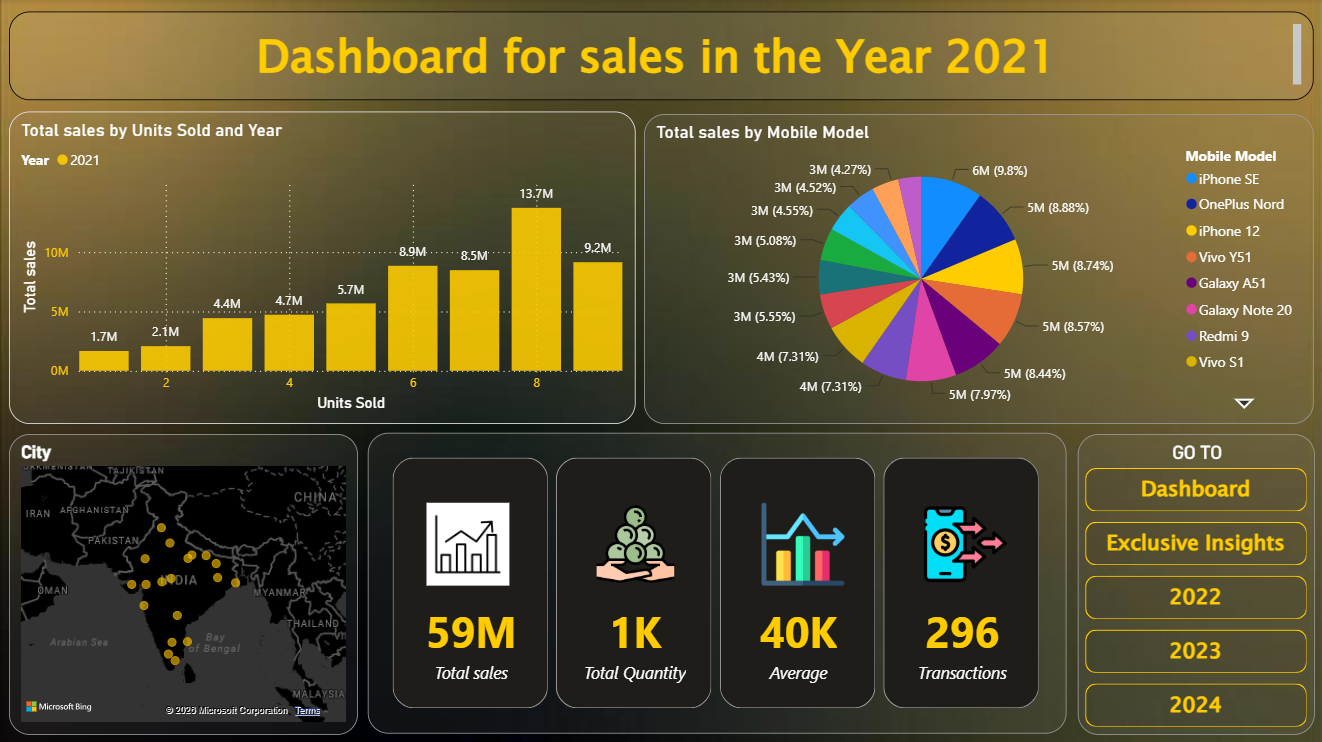

The page's visual inventory and layout, read from the dashboard file:
{"tool":"powerbi","page":{"name":"2021","canvas":[1280,720],"ordinal":2},"visuals":[{"type":"textbox","box":[9.7,12.1,1259.5,85.7],"z":0},{"type":"columnChart","fields":{"Y":["Sales_data.Total sales"],"Category":["Sales_data.Units Sold"],"Series":["Sales_data.Date.Variation.Date Hierarchy.Year"]},"box":[9.7,108.6,604.4,301.6],"z":1000},{"type":"pieChart","fields":{"Category":["Sales_data.Mobile Model"],"Y":["Sales_data.Total sales"]},"box":[622.5,111,646.7,299.2],"z":2000},{"type":"map","fields":{"Category":["Sales_data.City"]},"box":[10,420,337.1,290],"z":3000},{"type":"cardVisual","fields":{"Data":["Sales_data.Total sales","Sales_data.Total Quantity","Sales_data.Average","Sales_data.Transactions"]},"box":[355.9,418.6,674.4,290.8],"z":4000},{"type":"pageNavigator","title":"GO TO","box":[1041.4,420,228.6,290],"z":5000},{"type":"image","box":[574.3,485.7,80,80],"z":6000},{"type":"image","box":[735.7,485.7,80,80],"z":7000},{"type":"image","box":[892.9,485.7,80,80],"z":8000},{"type":"image","box":[412.9,485.7,80,80],"z":9000},{"type":"image","box":[412.9,485.7,80,80],"z":10000}]}

Visuals, with their boxes in screenshot pixels (x1, y1, x2, y2), scaled from the page's 1280x720 canvas onto the 1322x742 screenshot:
textbox: bbox(10, 12, 1311, 101)
columnChart - Sales_data.Total sales x Sales_data.Units Sold: bbox(10, 112, 634, 423)
pieChart - Sales_data.Mobile Model x Sales_data.Total sales: bbox(643, 114, 1311, 423)
map - Sales_data.City: bbox(10, 433, 358, 732)
cardVisual - Sales_data.Total sales x Sales_data.Total Quantity: bbox(368, 431, 1064, 731)
"GO TO" pageNavigator: bbox(1076, 433, 1312, 732)
image: bbox(593, 501, 676, 583)
image: bbox(760, 501, 842, 583)
image: bbox(922, 501, 1005, 583)
image: bbox(426, 501, 509, 583)
image: bbox(426, 501, 509, 583)
